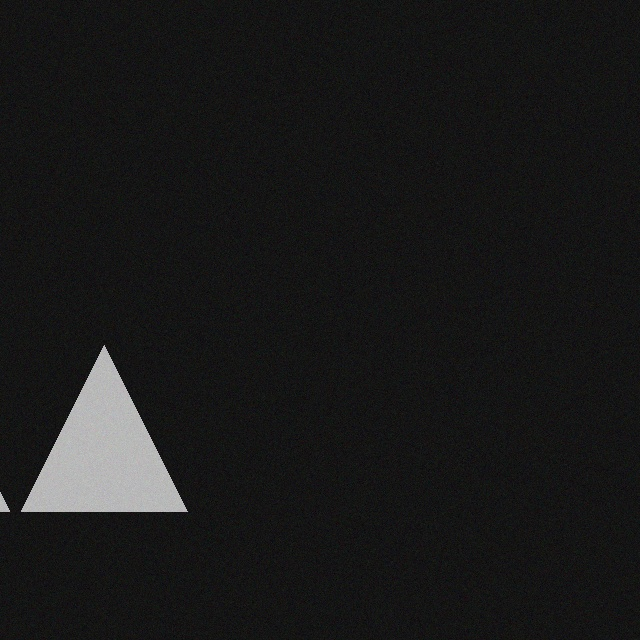triangle: (6, 354, 172, 520)
